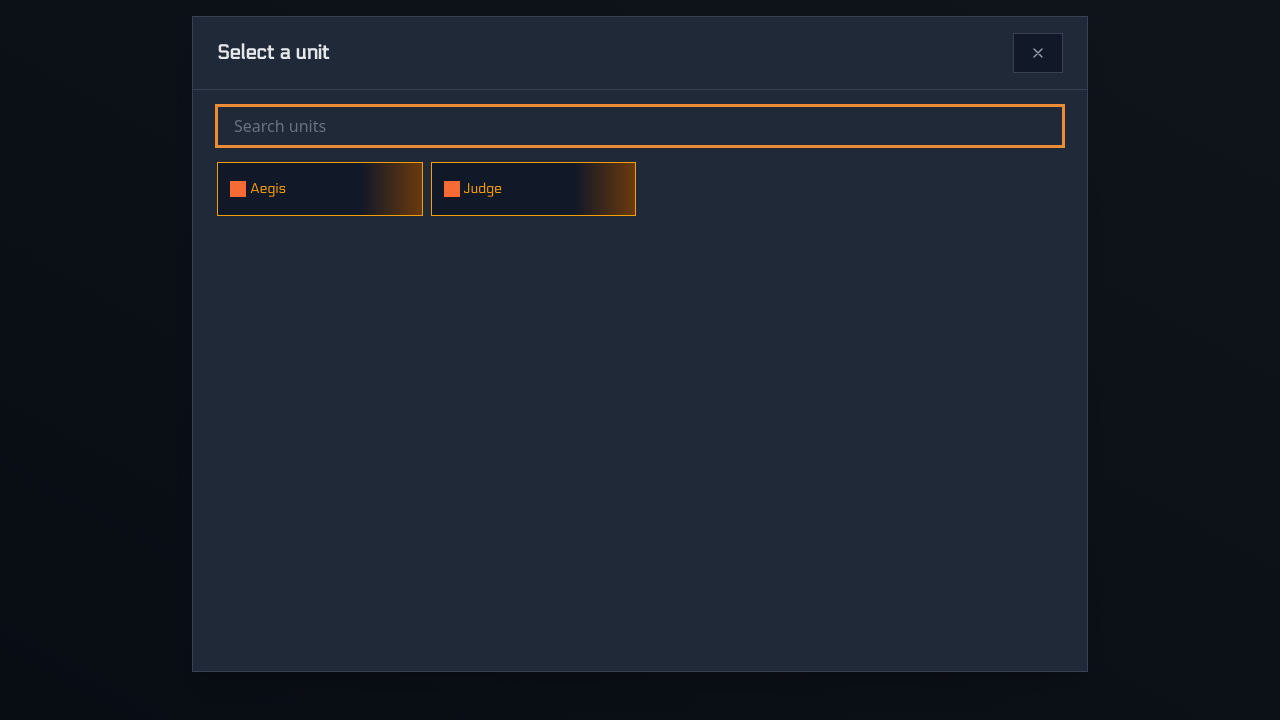
Test: UnitVersionSelector › offers a fully refitted version when the unit has ascension data
Click the button "Aegis".
click(320, 189)  # box [217,162,422,216]
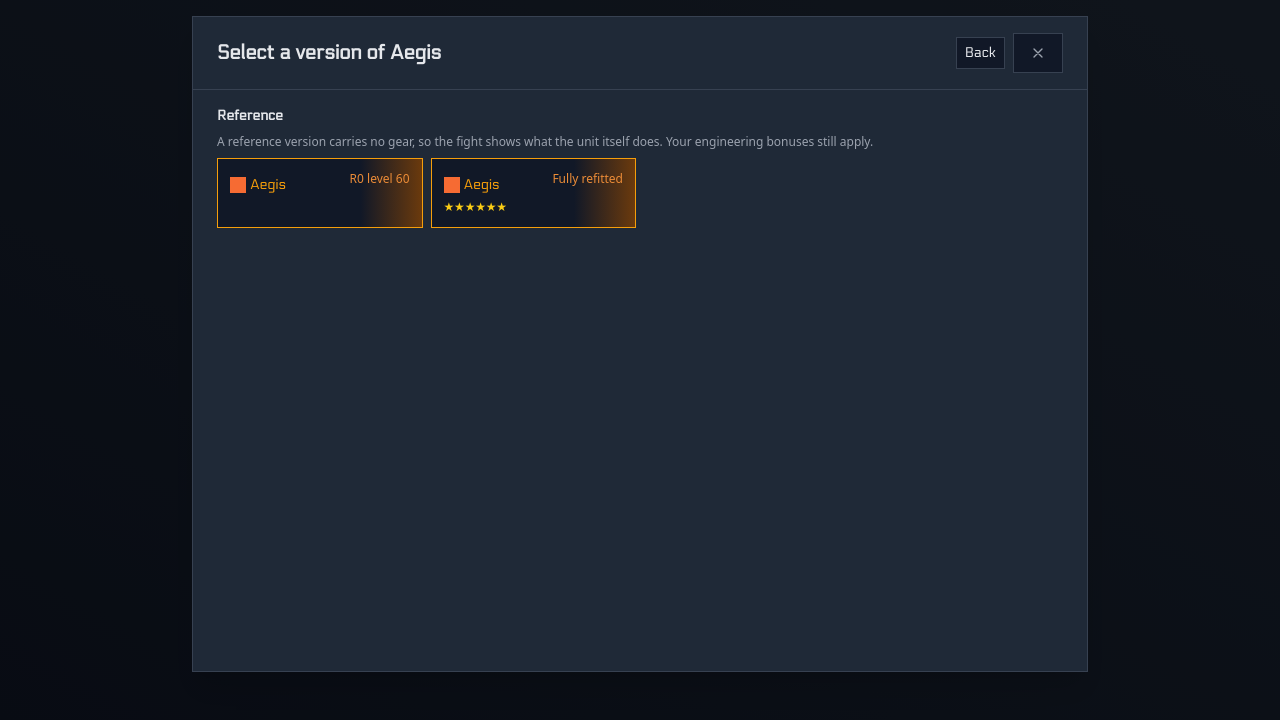
Expected: the text "Fully refitted" is shown, [552,170,623,187]
